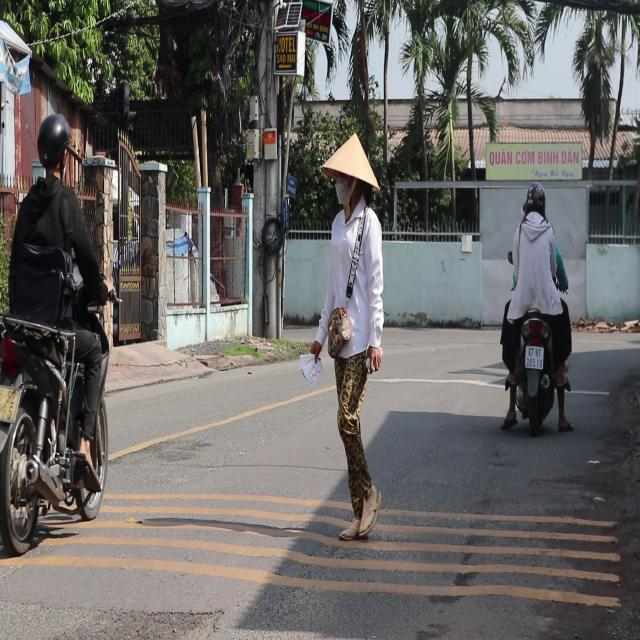helmet: (34, 115, 73, 182), (525, 180, 547, 215)
licenseplate: (0, 112, 115, 559), (498, 182, 576, 433)
nohelmet: (525, 346, 543, 369)
